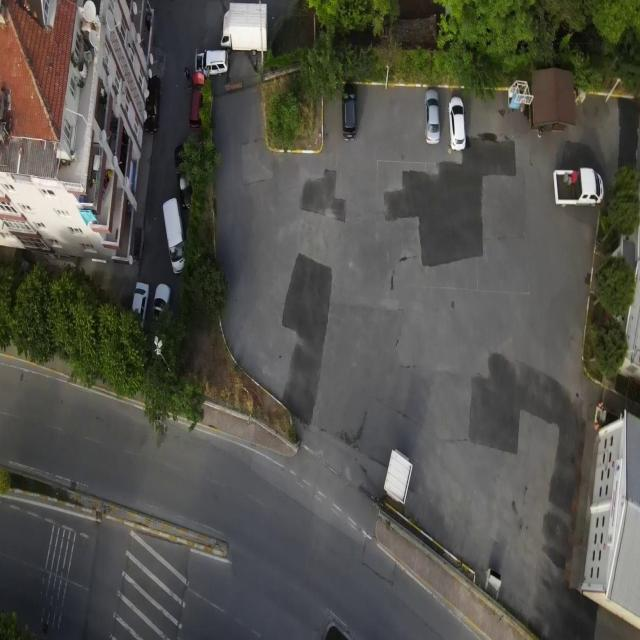p3rson: (146, 16, 152, 32), (184, 66, 190, 80)
